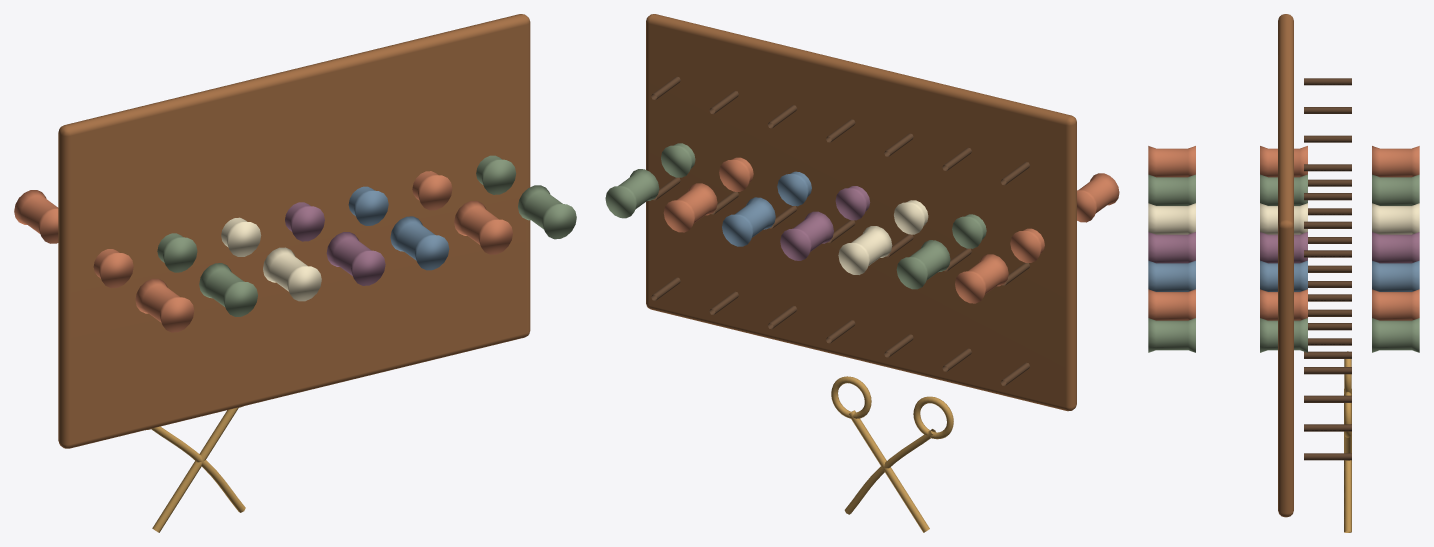
The model's file is thread_rack.glb.
3 renders of one model, left to right at view 1: azimuth 30°, elevation 25°; view 2: azimuth 150°, elevation 25°; view 3: azimuth 270°, elevation 25°, orthographic. The views are drawn at different scales.
Parts seen in each view (by area): view 1: House07_thread_rack; view 2: House07_thread_rack; view 3: House07_thread_rack.
Boxes of the visible parts, box(x1,y1,x2,y2) form: House07_thread_rack: box(14, 14, 576, 532); House07_thread_rack: box(605, 14, 1119, 532); House07_thread_rack: box(1148, 14, 1419, 532).
Size of the model in its own units: 1.25 by 1.18 by 0.68.
